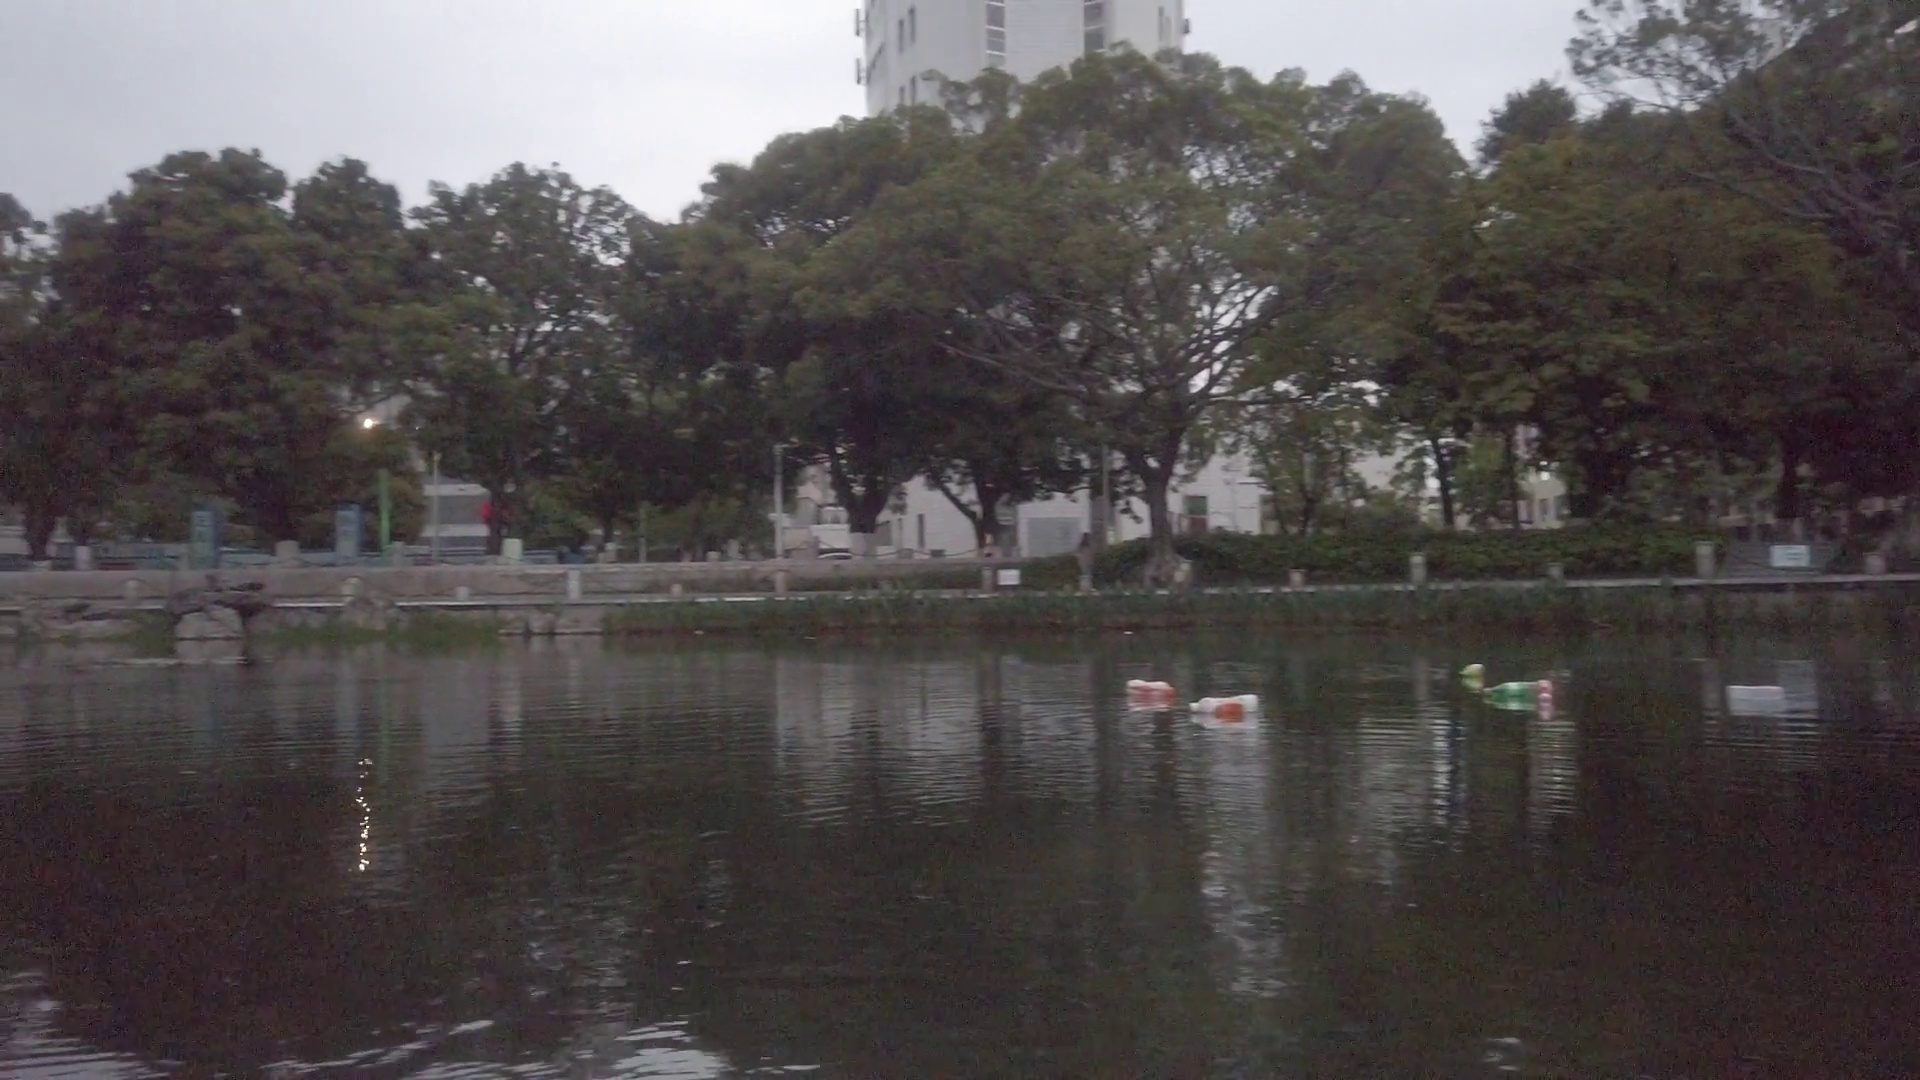bottle: (1185, 690, 1258, 715), (1487, 682, 1536, 702), (1126, 679, 1176, 698), (1538, 675, 1555, 705), (1462, 663, 1481, 678)
carton: (1726, 680, 1791, 707)
